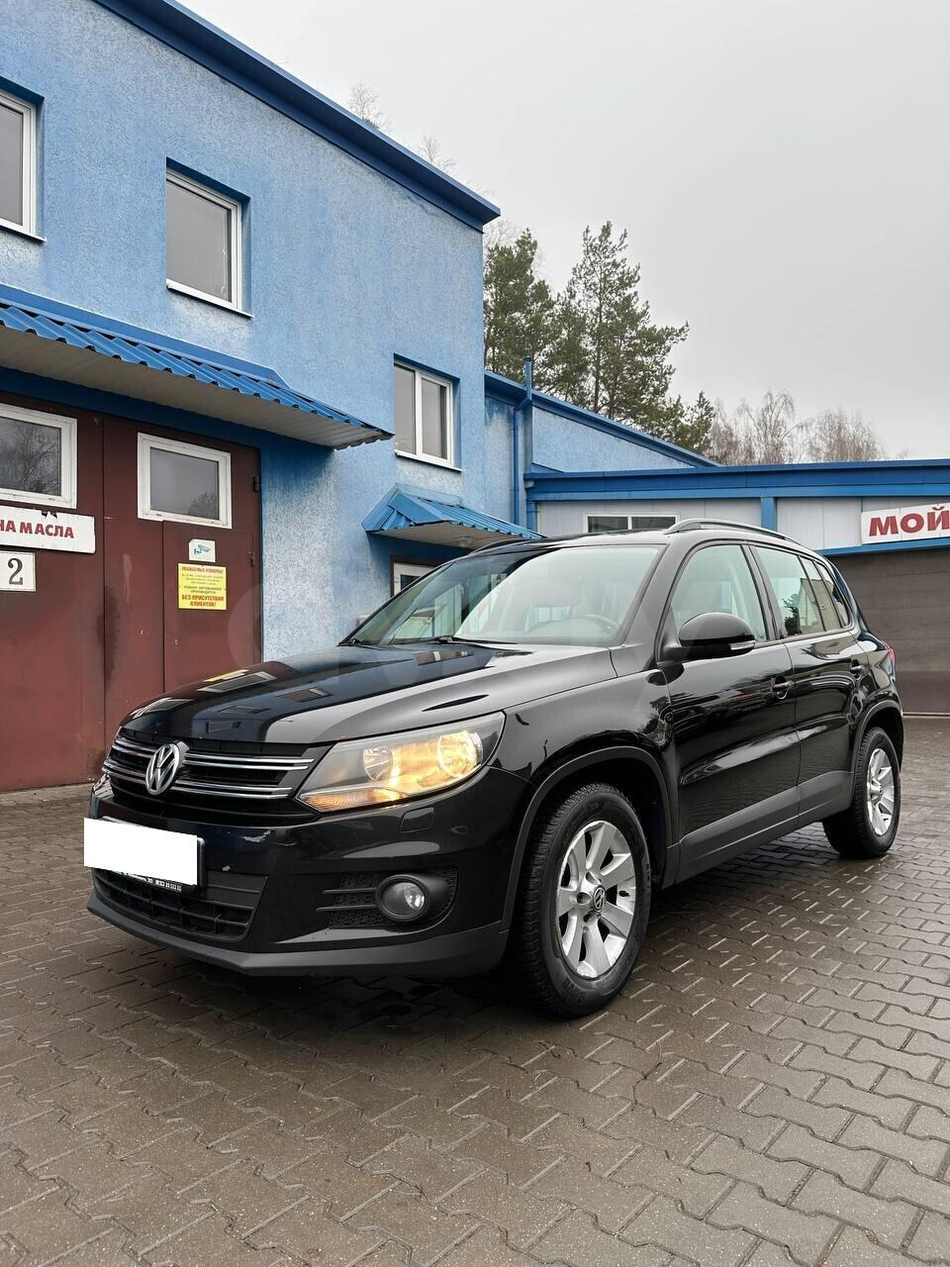Tiguan_2011-2018: (84, 523, 909, 1031)
